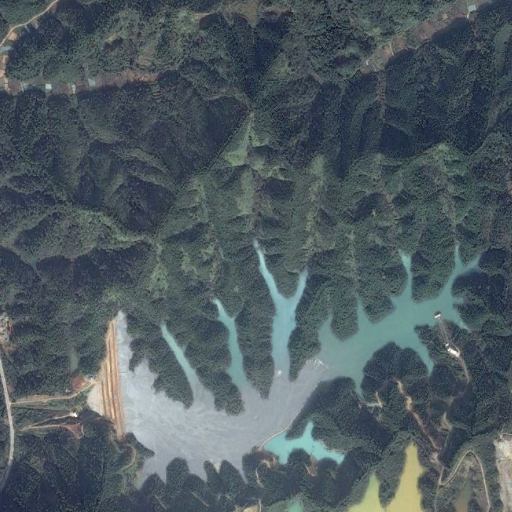tp: (84, 243, 483, 486)
